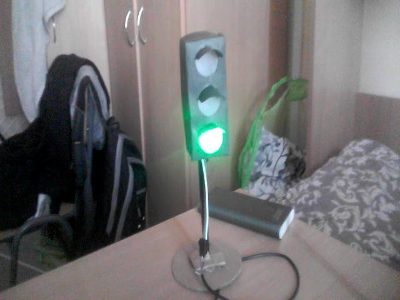trafficlight_green: (184, 39, 230, 157)
